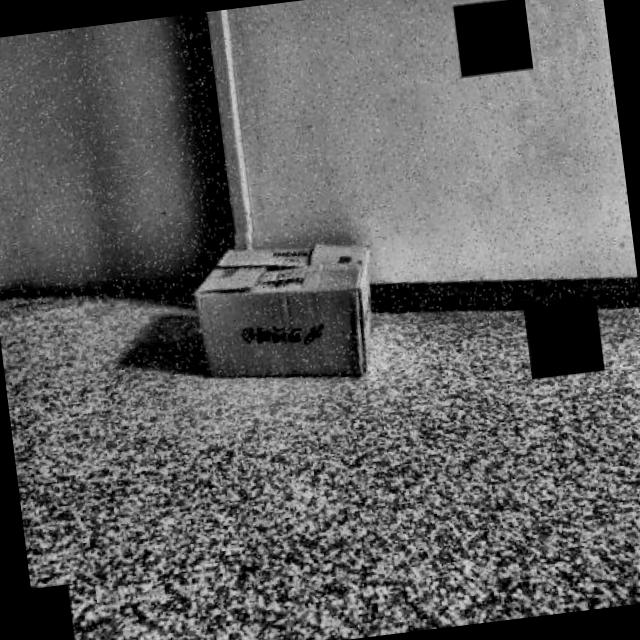box: (183, 217, 400, 410)
